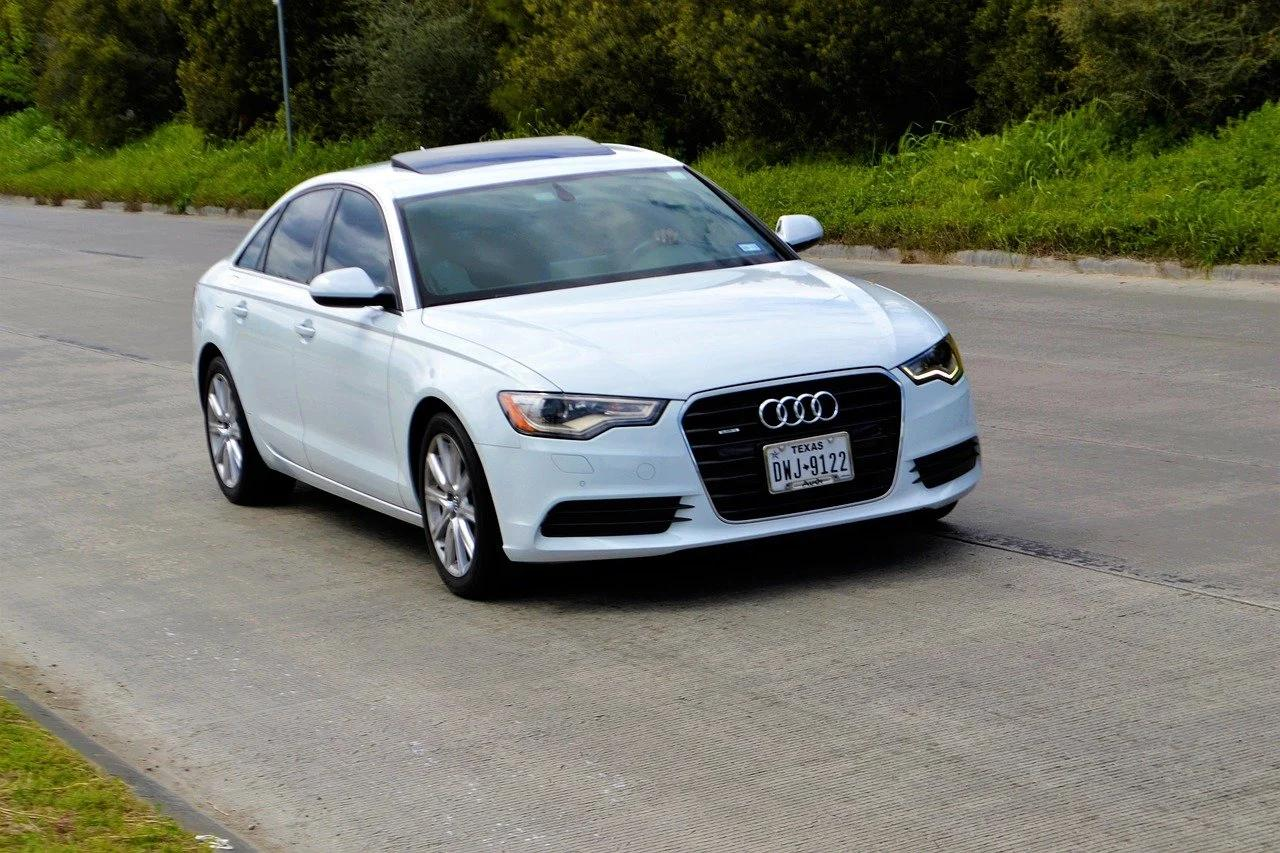car: (179, 128, 1007, 602)
